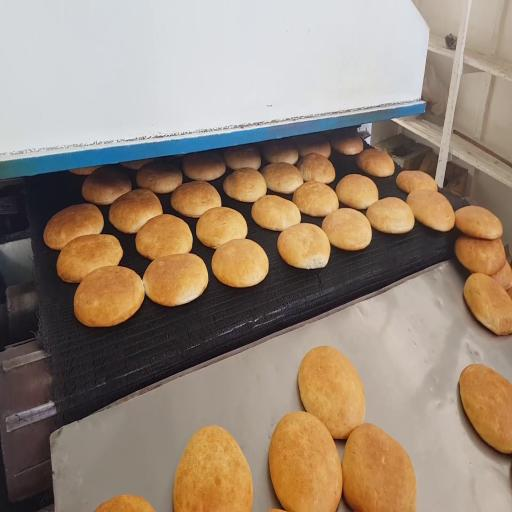bread: (269, 412, 343, 511), (174, 426, 253, 511), (342, 424, 417, 511), (298, 347, 365, 438), (459, 365, 511, 453), (74, 266, 144, 327), (143, 253, 208, 306), (57, 234, 123, 282), (464, 273, 511, 335), (44, 204, 103, 250), (212, 239, 268, 287), (136, 214, 192, 259), (278, 223, 330, 269), (109, 189, 162, 233), (196, 207, 247, 248), (322, 209, 371, 250), (455, 236, 506, 275), (407, 189, 454, 231), (82, 167, 131, 205), (171, 181, 221, 218), (252, 195, 301, 231), (367, 197, 414, 233), (293, 182, 338, 217), (455, 206, 502, 239), (136, 160, 182, 193), (336, 174, 378, 209), (223, 168, 266, 202), (183, 151, 225, 181), (262, 163, 303, 193), (297, 153, 335, 183), (357, 149, 394, 177), (95, 495, 154, 511), (396, 171, 437, 193), (262, 139, 298, 164), (224, 146, 261, 170), (295, 134, 330, 158), (330, 133, 363, 155), (492, 262, 511, 290), (121, 159, 153, 170), (70, 166, 100, 175), (507, 288, 511, 299)
